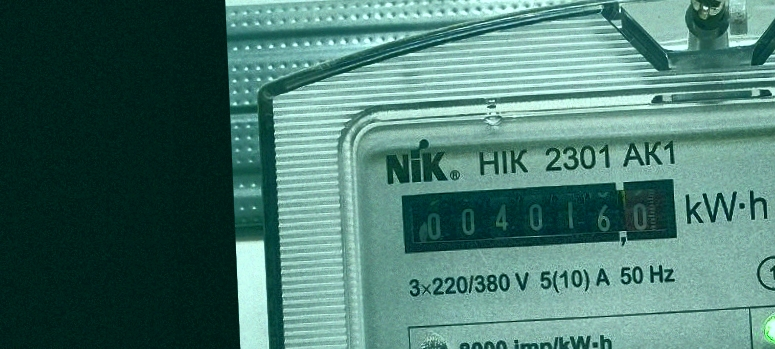0: (524, 198, 547, 234), (423, 208, 445, 242), (457, 203, 478, 238), (628, 199, 650, 232)
1: (562, 196, 579, 231)
4: (491, 199, 511, 234)
6: (592, 200, 613, 232)
screen: (394, 171, 686, 261)
